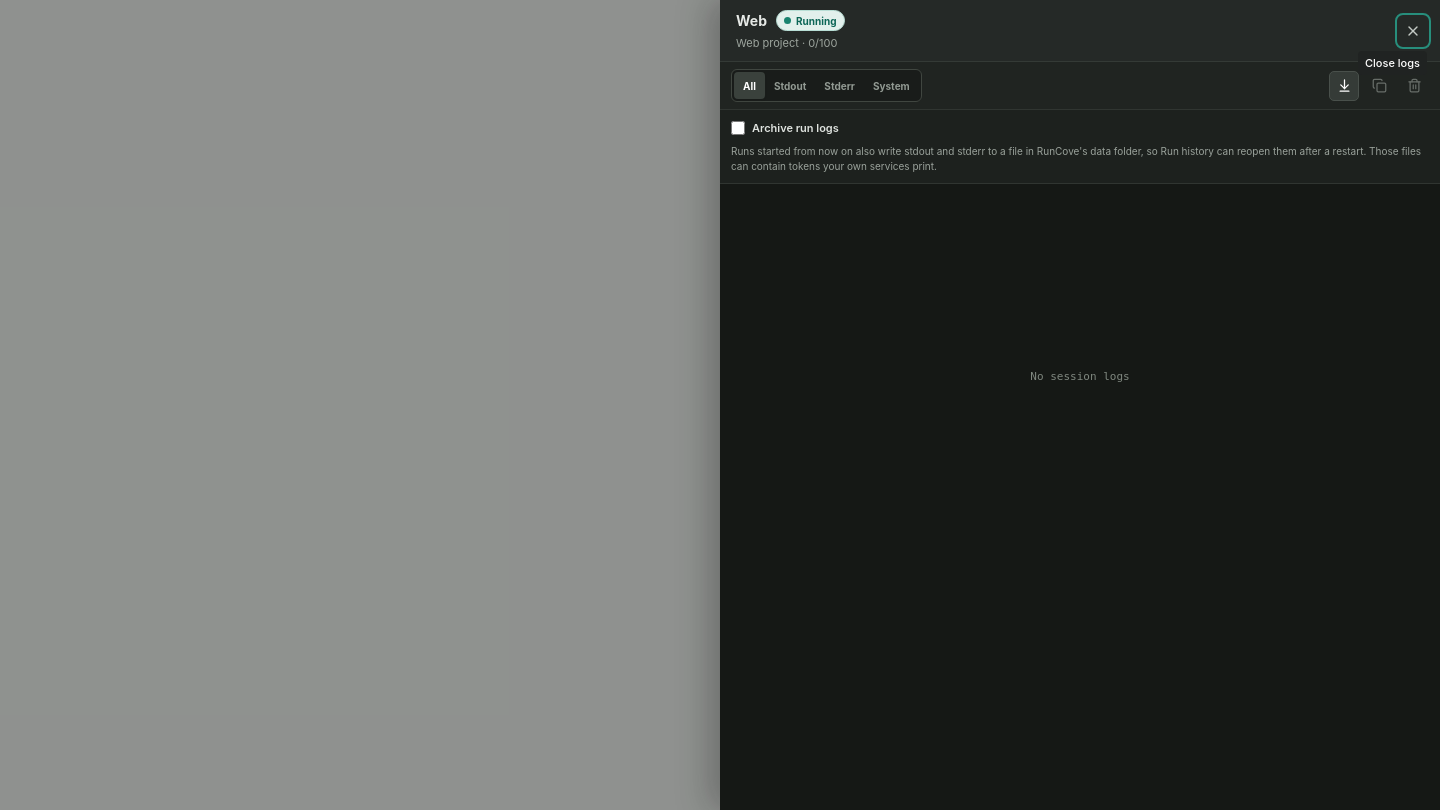
Test: LogDrawer run log archiving › confirms an enabled archive only when the backend says it is running
Click the checkbox labelled "Archive run logs".
click(738, 128)  # box [731,121,745,135]
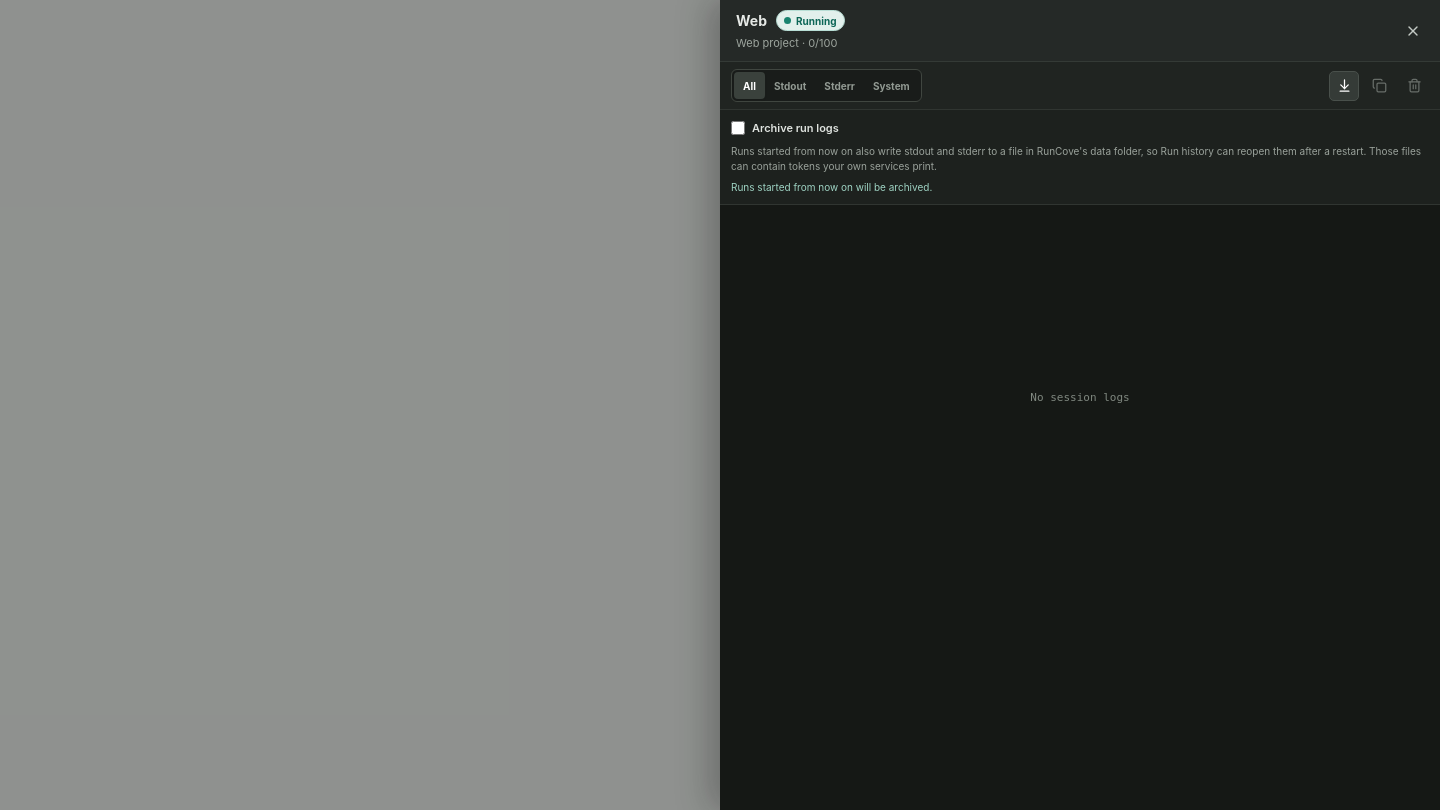
Now the text "Runs started from now on will be archived." is shown, box [731,181,932,193]
